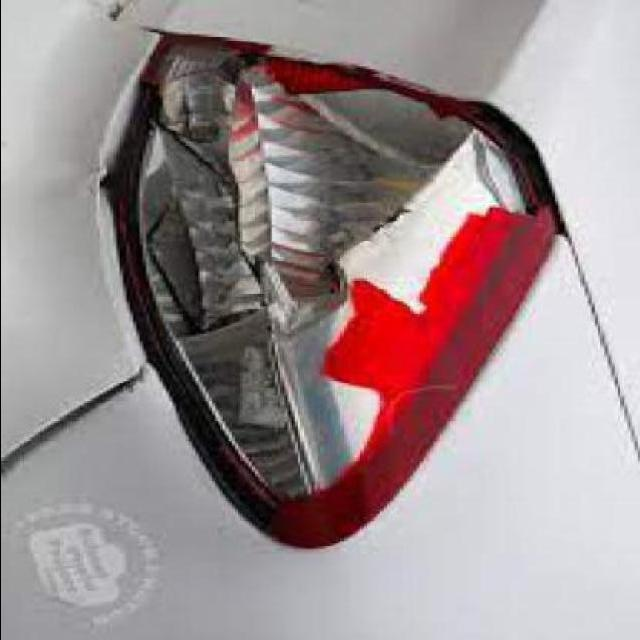Headlight-Damage: (98, 11, 567, 543)
